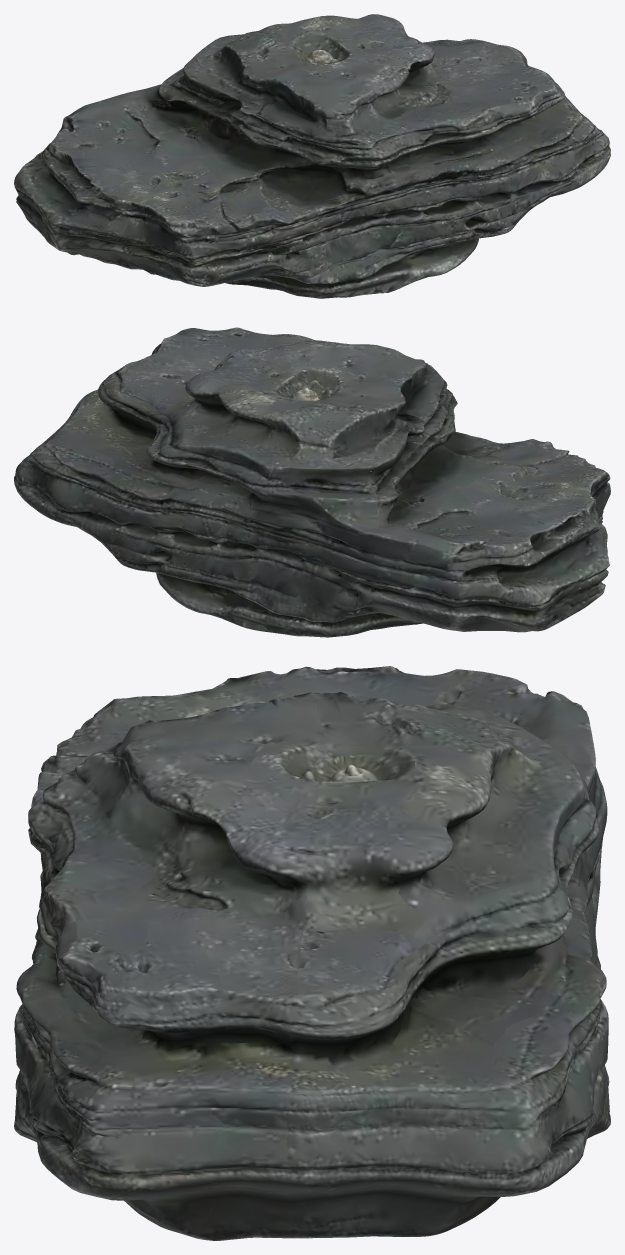
File: Dieshi_1.glb
3 views of the same model, one above another, from view 1: azimuth 30°, elevation 25°; view 2: azimuth 150°, elevation 25°; view 3: azimuth 270°, elevation 25° (orthographic). The views are drawn at different scales.
Visible parts, largest first — view 1: tripo_node_caa5f6ce-8958-4b77-a4f6-46dfe75c5ea8; view 2: tripo_node_caa5f6ce-8958-4b77-a4f6-46dfe75c5ea8; view 3: tripo_node_caa5f6ce-8958-4b77-a4f6-46dfe75c5ea8.
Boxes of the visible parts, x1,y1,x2,y2 form: tripo_node_caa5f6ce-8958-4b77-a4f6-46dfe75c5ea8: (14,14,610,298); tripo_node_caa5f6ce-8958-4b77-a4f6-46dfe75c5ea8: (14,327,610,637); tripo_node_caa5f6ce-8958-4b77-a4f6-46dfe75c5ea8: (14,666,610,1240).
Bounding box in the file's own units: 0.9795 × 0.341 × 0.5274.
1 material, 1 textured.
